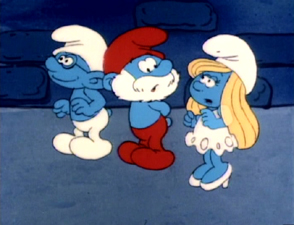smurf: (183, 33, 260, 190), (103, 25, 182, 171), (44, 24, 111, 160)
